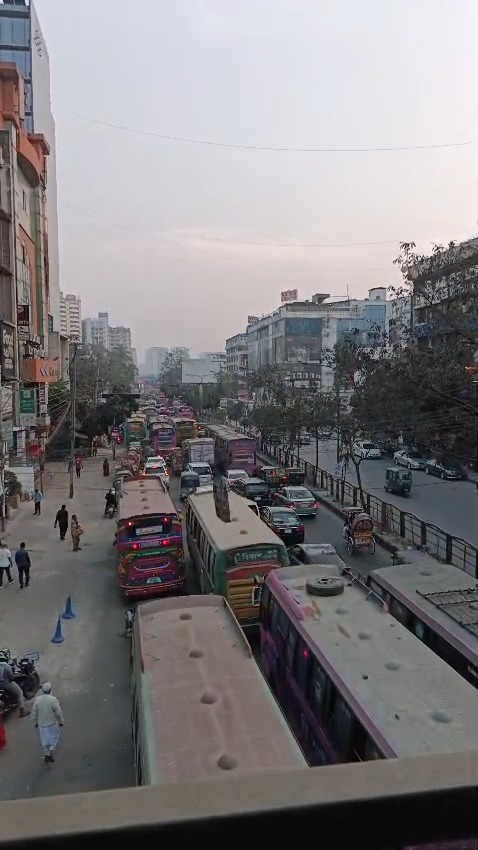Bus: (130, 554, 478, 850), (167, 489, 285, 598), (117, 470, 190, 583), (207, 418, 256, 468)
auto-ricksaw: (353, 509, 401, 566)
cng: (388, 464, 429, 515), (179, 459, 197, 504)
private car: (268, 497, 314, 540), (220, 459, 262, 496), (283, 484, 327, 513), (189, 458, 217, 482)
